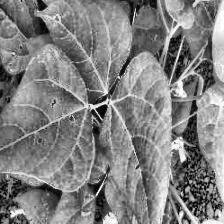ALS: (0, 44, 92, 190), (95, 51, 172, 224), (0, 0, 42, 76)
